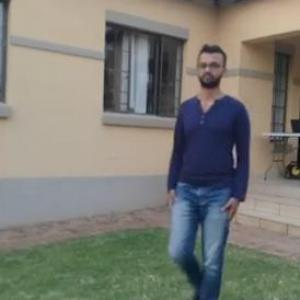follow: (169, 62, 243, 294)
